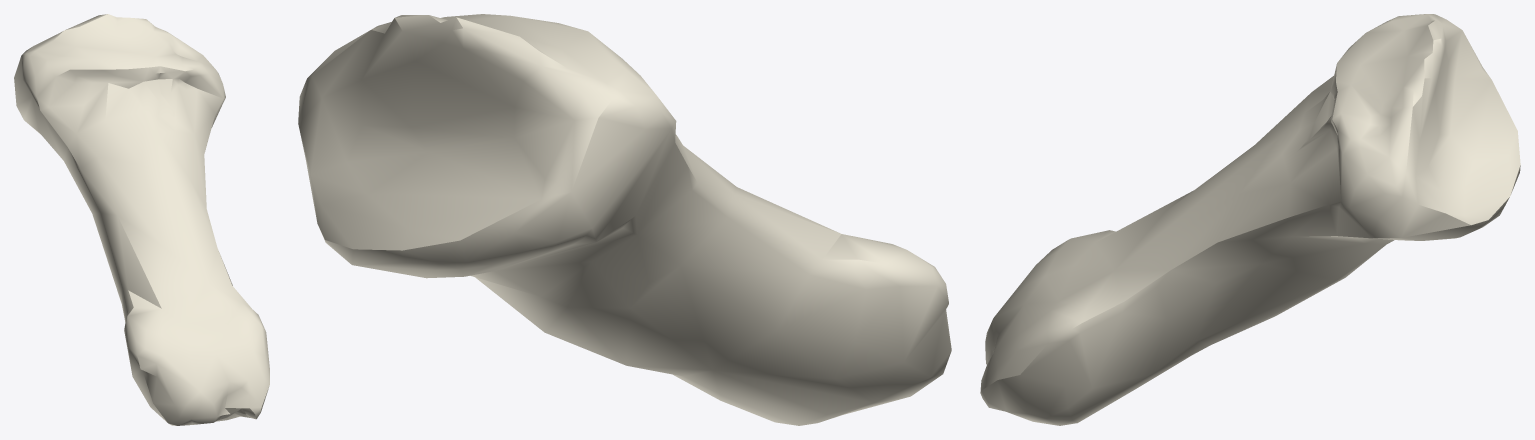
File: fma24460.glb
3 renders of one model, left to right at view 1: azimuth 30°, elevation 25°; view 2: azimuth 150°, elevation 25°; view 3: azimuth 270°, elevation 25°, orthographic. The views are drawn at different scales.
Visible parts, largest first — view 1: FMA24460; view 2: FMA24460; view 3: FMA24460.
Boxes of the visible parts, left/top/right/bottom form: FMA24460: left=14, top=14, right=269, bottom=425; FMA24460: left=298, top=14, right=951, bottom=425; FMA24460: left=980, top=14, right=1520, bottom=425.
Size of the model in its own units: 0.0102 by 0.014 by 0.0171.
